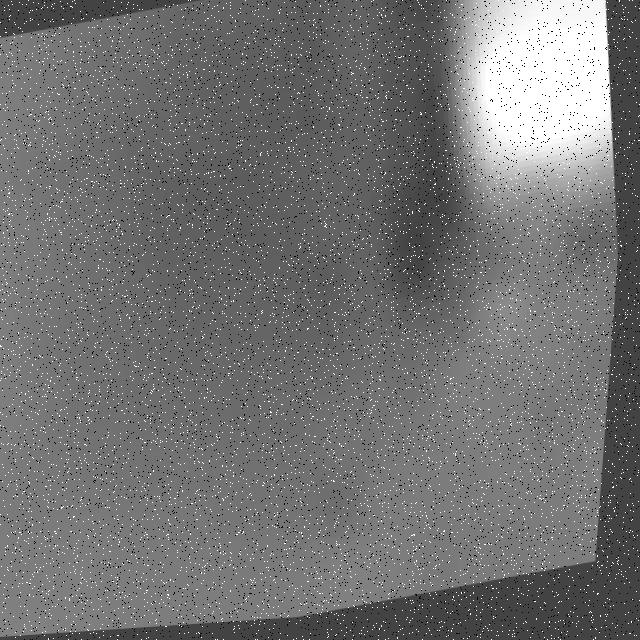person: (427, 1, 635, 249)
